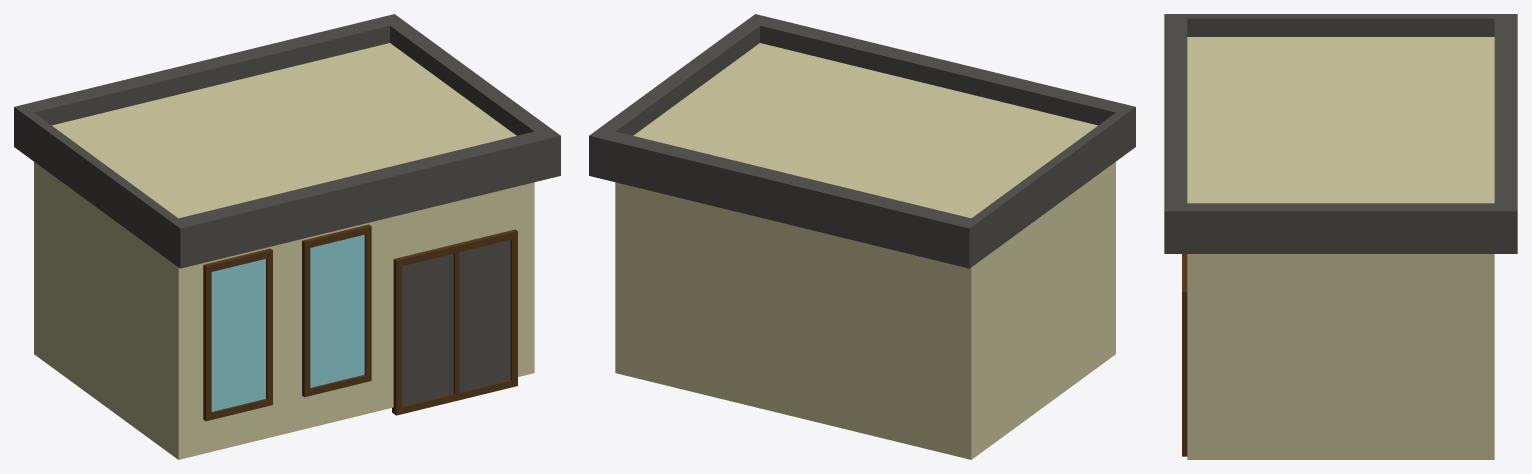
File: bina1.fbx
3 views of the same model, side by side, from view 1: azimuth 30°, elevation 25°; view 2: azimuth 150°, elevation 25°; view 3: azimuth 270°, elevation 25° (orthographic). The views are drawn at different scales.
Parts seen in each view (by area): view 1: bina1; view 2: bina1; view 3: bina1.
Boxes of the visible parts, x1,y1,x2,y2 form: bina1: [14, 14, 560, 459]; bina1: [589, 14, 1135, 459]; bina1: [1164, 14, 1517, 459].
Size of the model in its own units: 515 by 321 by 390.
